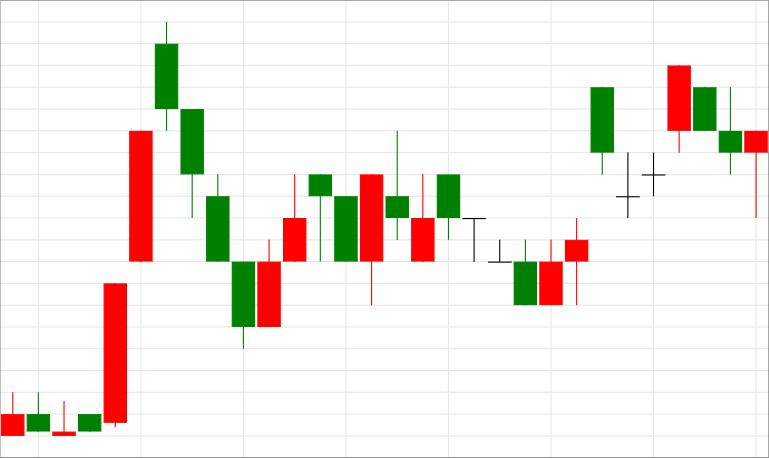bullish_engulfing_rise: (386, 130, 563, 305)
three_black_crows_fall: (52, 19, 254, 436)
